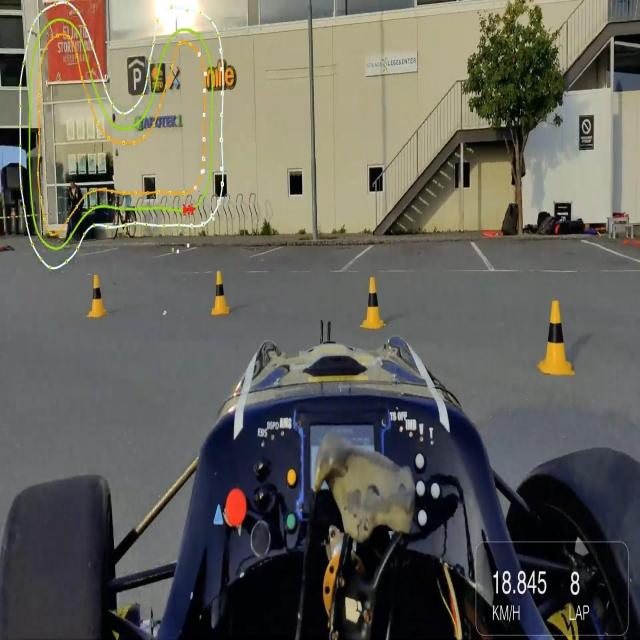yellow_cone: (533, 294, 578, 382), (358, 270, 388, 334), (83, 270, 110, 322), (208, 266, 232, 319)
